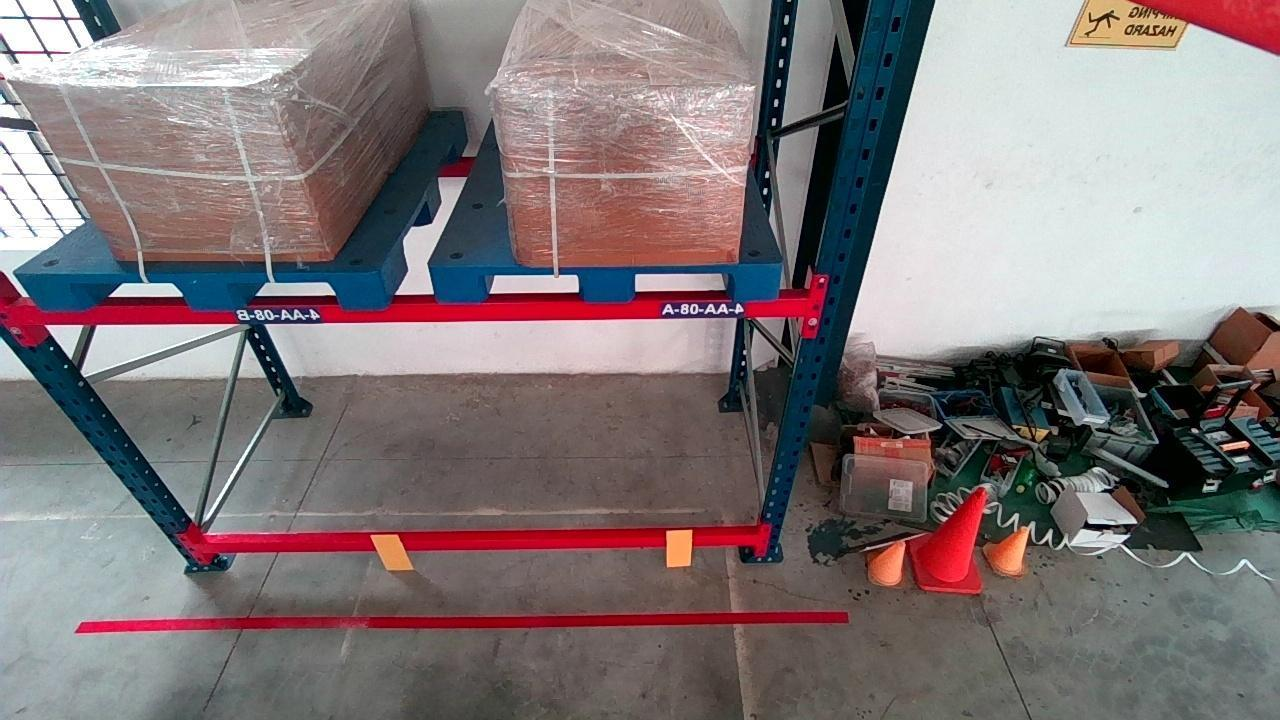h_rack: (5, 298, 808, 324), (198, 526, 758, 553)
orange_strip: (372, 533, 413, 569), (665, 527, 695, 566)
red_line: (73, 610, 847, 632)
small_pallet: (36, 270, 384, 310), (441, 263, 781, 301)
